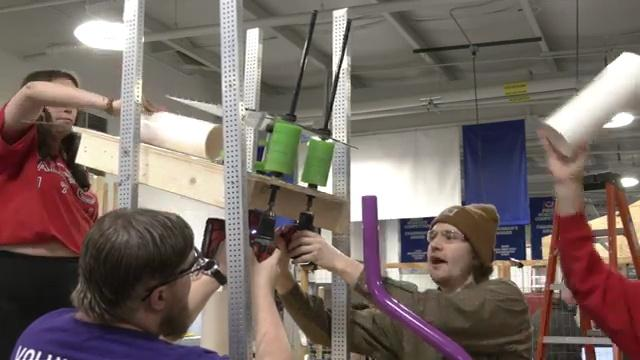CORAL: (535, 49, 638, 159), (139, 112, 223, 158)
